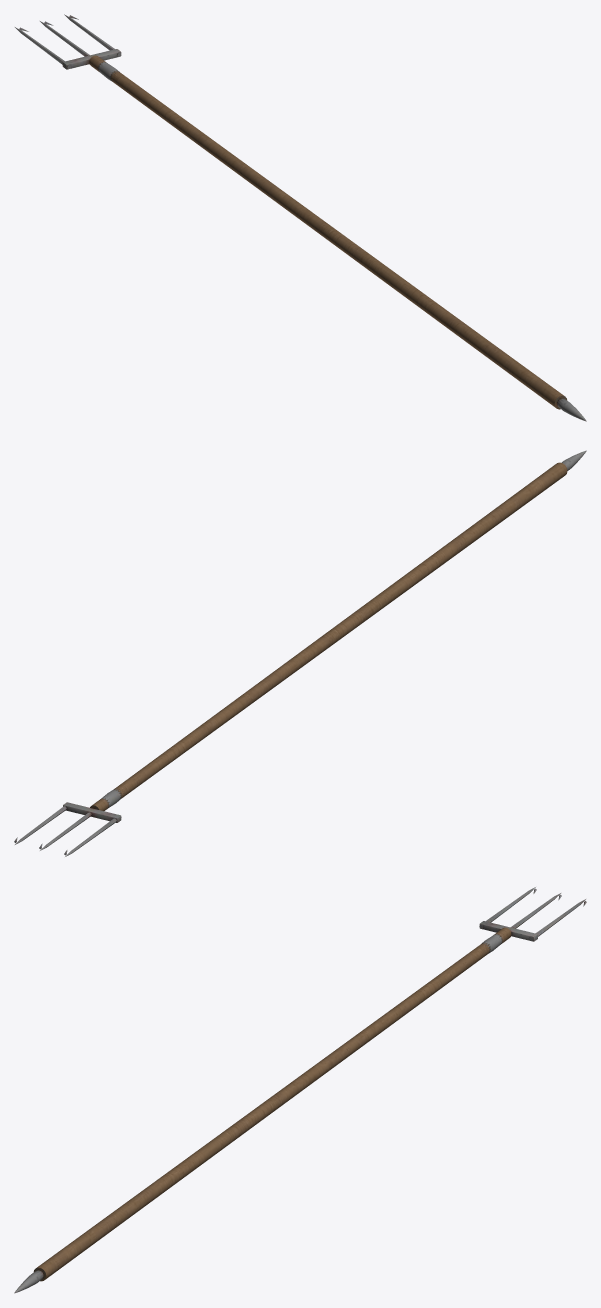
The model's file is fish_spear.glb.
The picture shows the model from 3 angles, top to bottom: view 1: azimuth 30°, elevation 25°; view 2: azimuth 150°, elevation 25°; view 3: azimuth 330°, elevation 25°; orthographic projection.
Parts seen in each view (by area): view 1: fish_spear; view 2: fish_spear; view 3: fish_spear.
Part boxes in pixels (x1,y1,x2,y2): fish_spear: (15,14,586,421); fish_spear: (14,450,586,856); fish_spear: (14,887,586,1293).
Bounding box in the file's own units: 0.1406 × 0.0302 × 2.28.
Materials: 1 (1 with a texture image).
